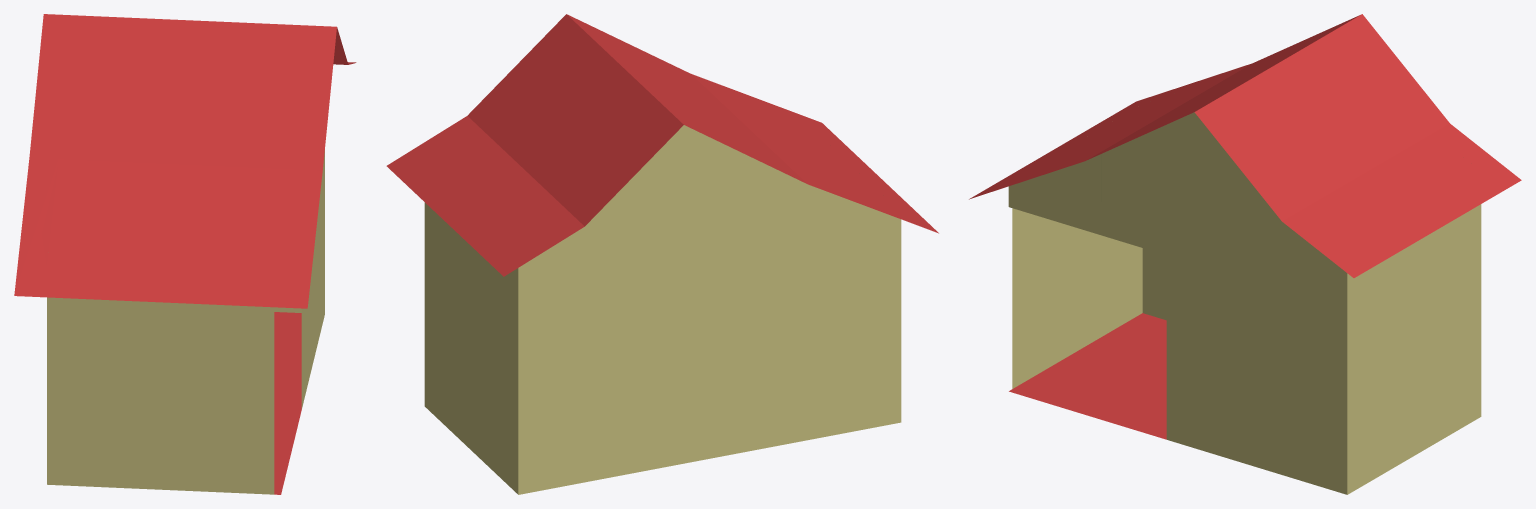
3 views of the same model, side by side, from view 1: azimuth 30°, elevation 25°; view 2: azimuth 150°, elevation 25°; view 3: azimuth 270°, elevation 25° (orthographic). The views are drawn at different scales.
Bounding box in the file's own units: 17.66 × 19.13 × 13.38.
